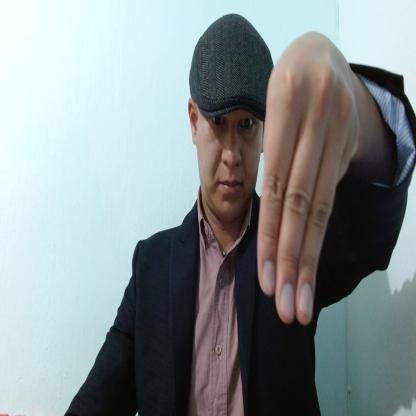M: (257, 30, 359, 327)
